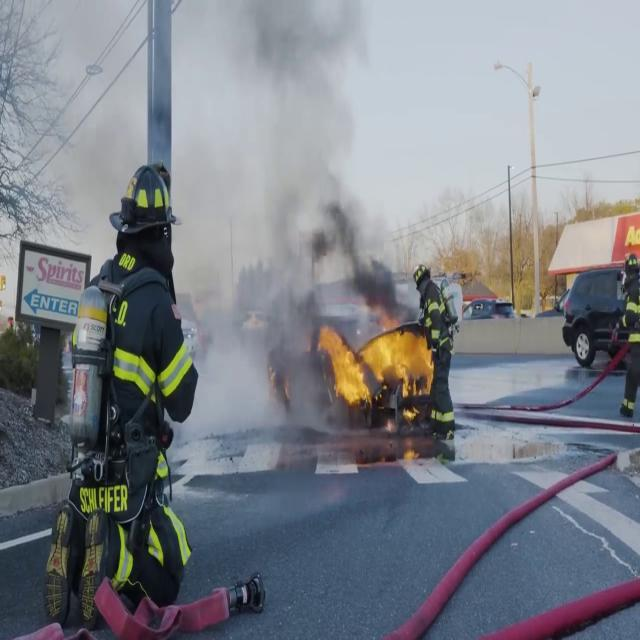Fire: (316, 316, 434, 415)
Smoke: (167, 1, 405, 392)
